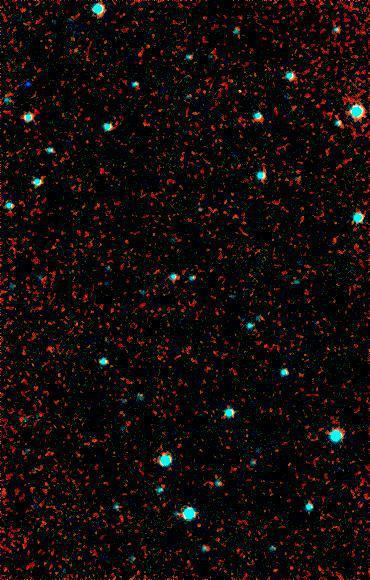star: (13, 74, 43, 104)
